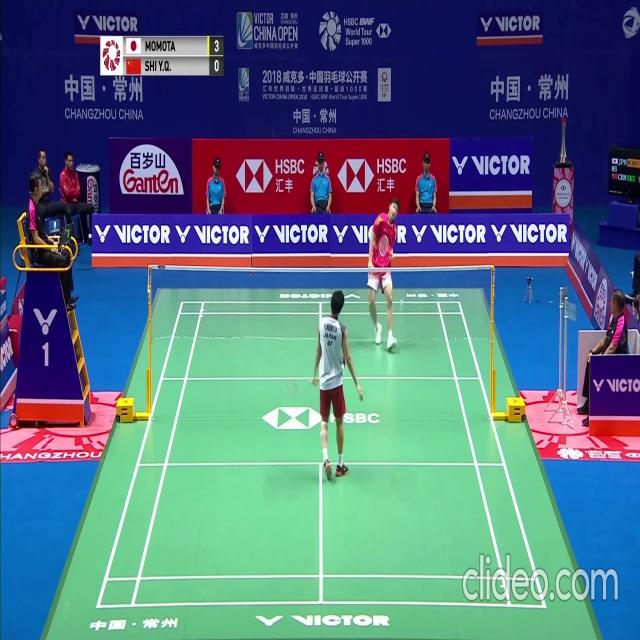Shuttlecock: (399, 298, 404, 305)
